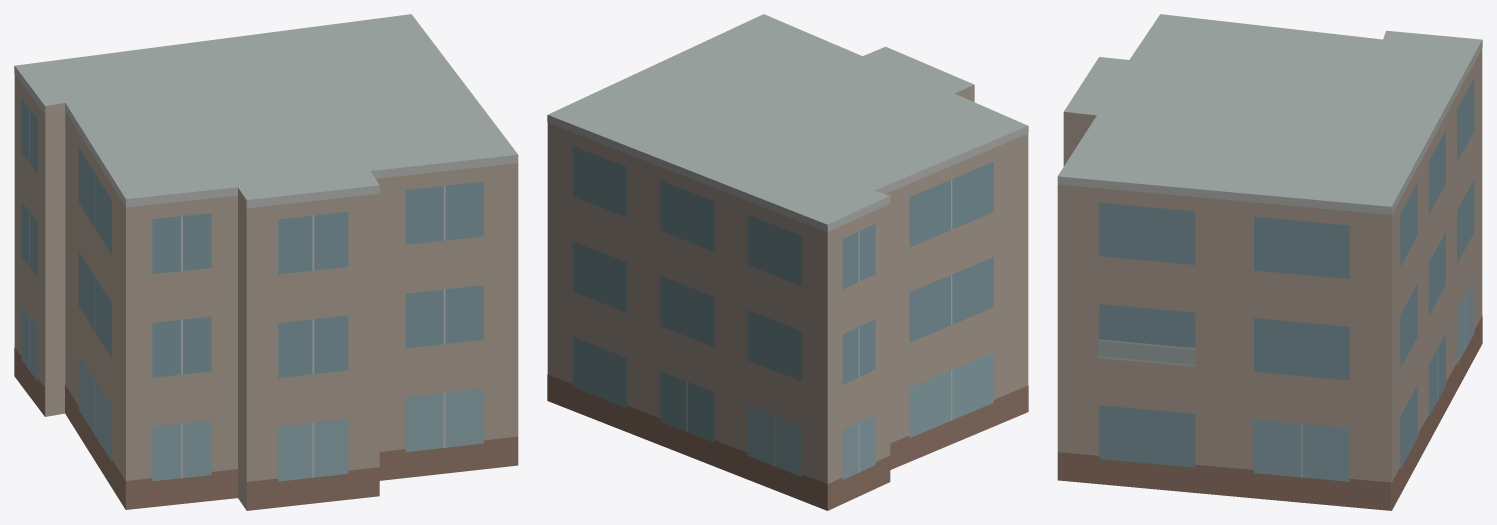
Rendered from survey-upis-32993854.glb.
3 views of the same model, side by side, from view 1: azimuth 30°, elevation 25°; view 2: azimuth 150°, elevation 25°; view 3: azimuth 270°, elevation 25° (orthographic). The views are drawn at different scales.
Visible parts, largest first — view 1: survey-upis-32993854.tmp; view 2: survey-upis-32993854.tmp; view 3: survey-upis-32993854.tmp.
Boxes of the visible parts, x1=… form: survey-upis-32993854.tmp: x1=14, y1=14, x2=518, y2=510; survey-upis-32993854.tmp: x1=547, y1=14, x2=1028, y2=510; survey-upis-32993854.tmp: x1=1057, y1=14, x2=1482, y2=510.
Bounding box in the file's own units: 12.46 × 9.15 × 11.6.
